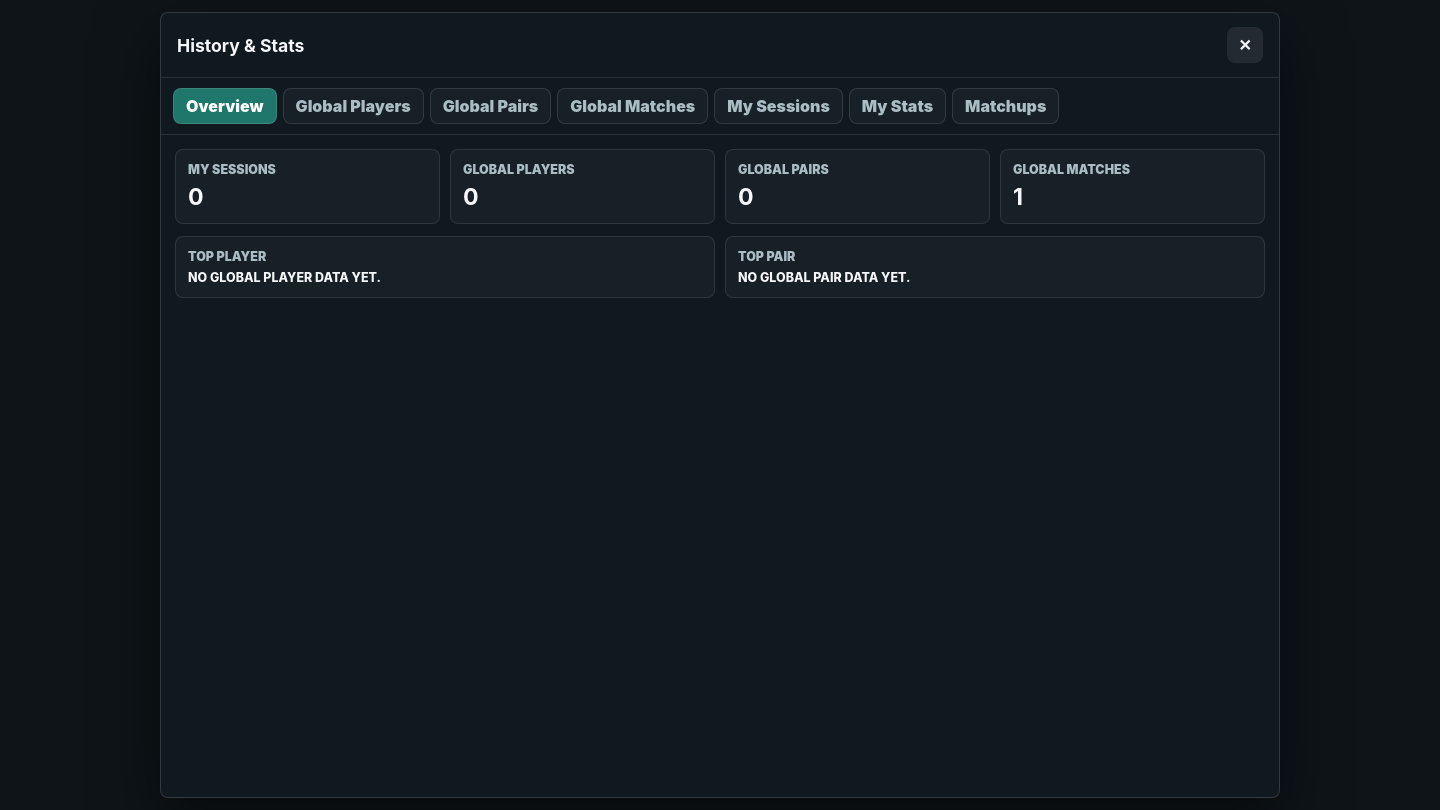
shows global match history
Click the tab "Global Matches" at (633, 106), box [557,88,708,124]
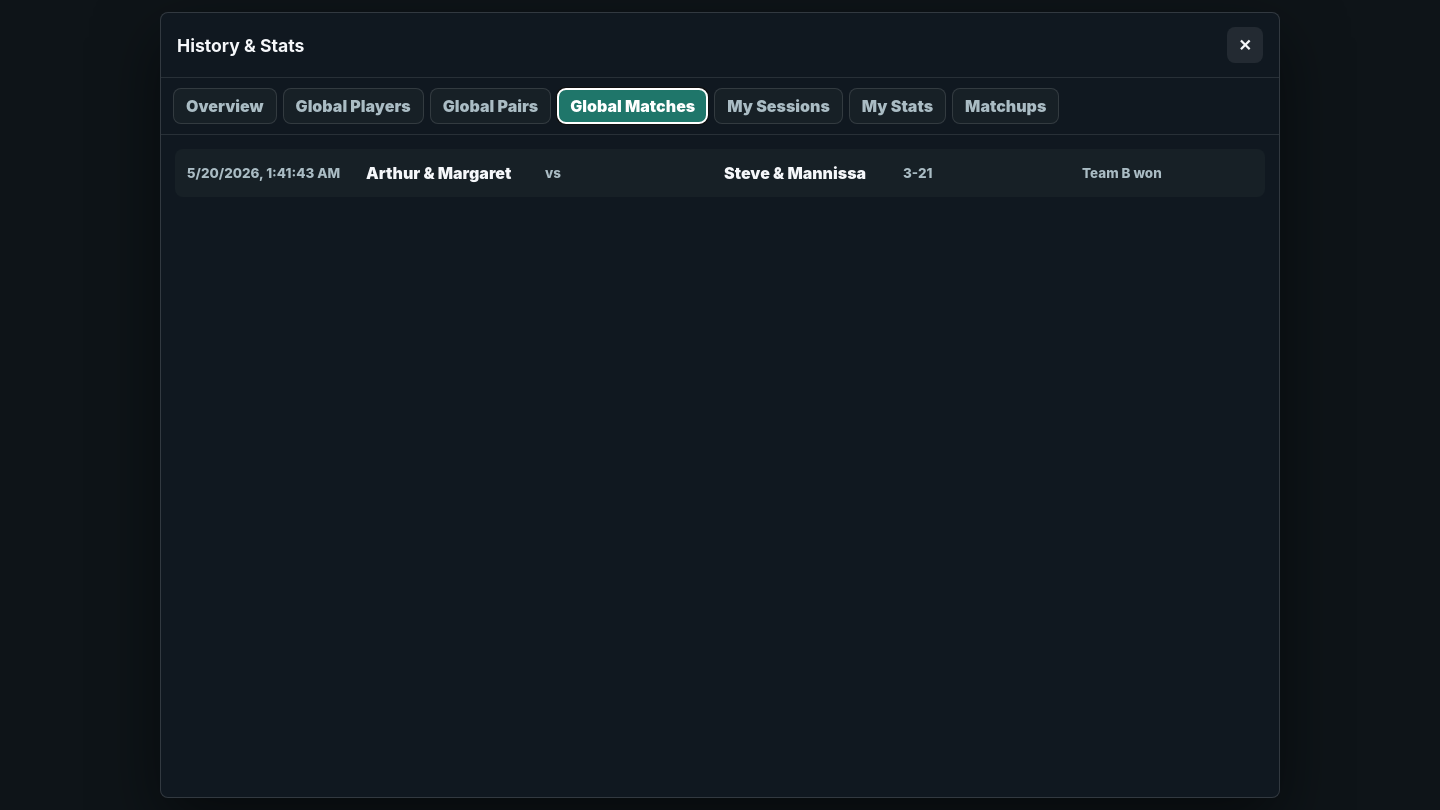
Now the text "Arthur & Margaret" is shown, box [366,163,537,183]
Now the text "Steve & Mannissa" is shown, box [724,163,866,183]
Now the text "3-21" is shown, box [903,165,932,181]
